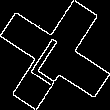L_NE: (28, 25, 82, 85)
